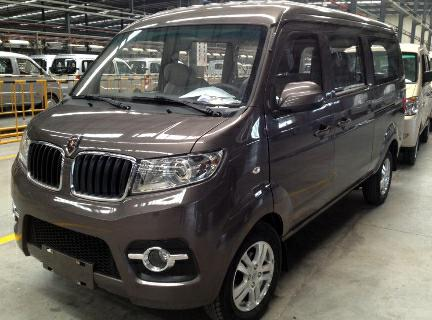金杯-小海狮X30: (10, 2, 409, 320)
